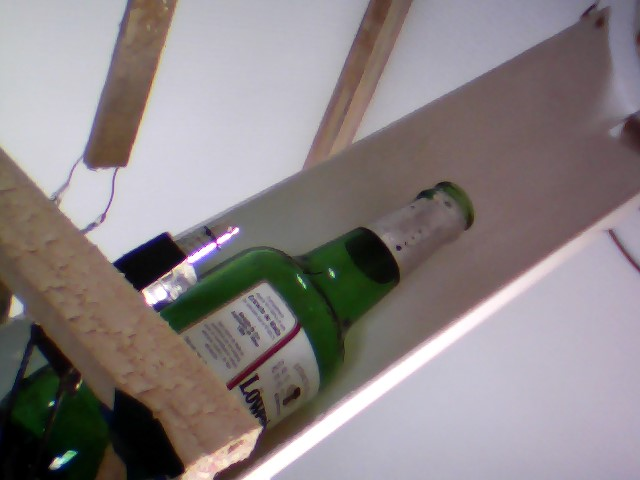vidrio: (183, 174, 497, 429)
